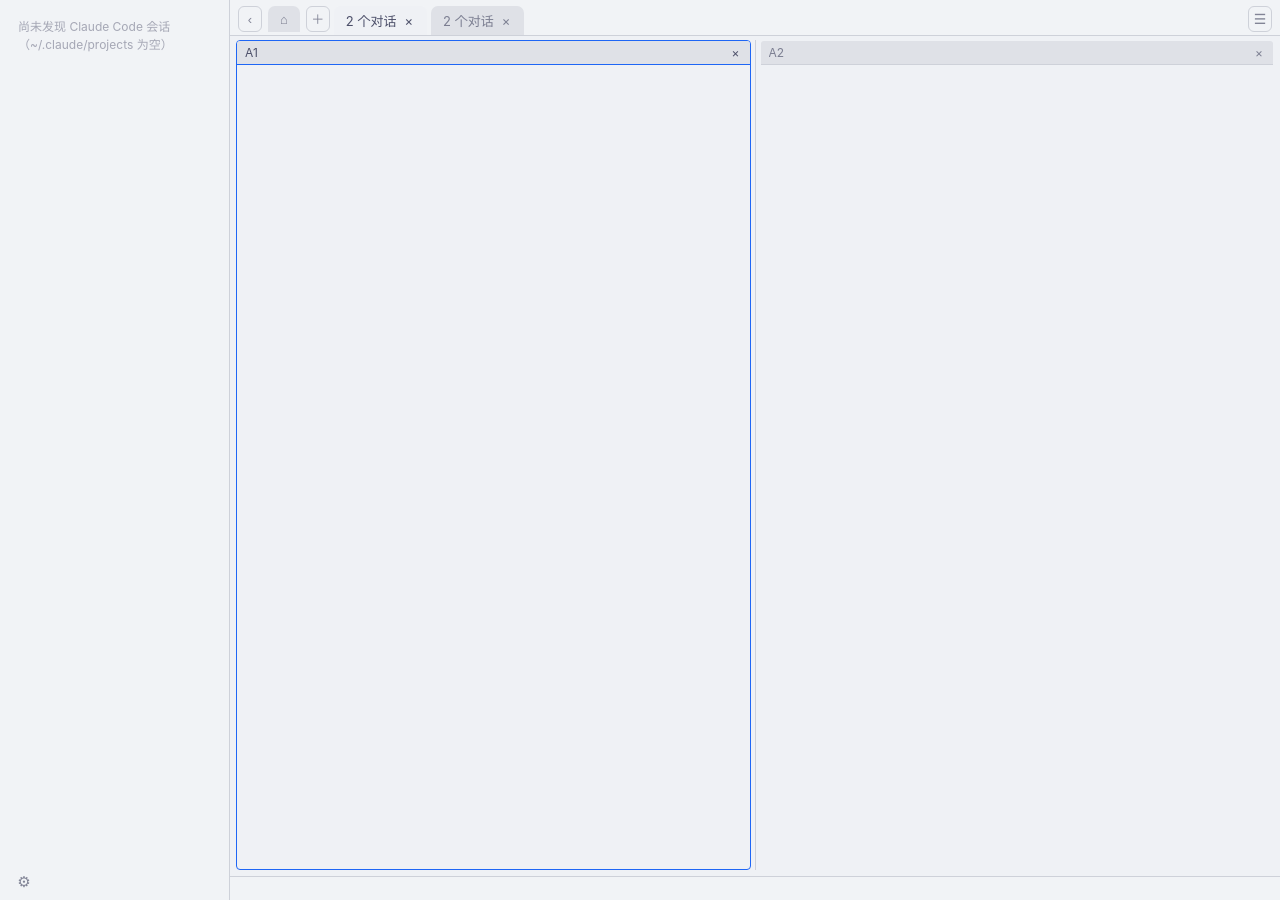
Test: TabBar — 拖已打开的标签进窗格区（设计文档 §5-B 场景 A） › 移入后总窗格数超过 3：拒绝，显示轻提示，两个标签都不受影响
The width and height of the screenshot is (1280, 900).
Press the mouse on the 2nd text "2 个对话": (478, 20) left=431, top=6, right=524, bottom=35
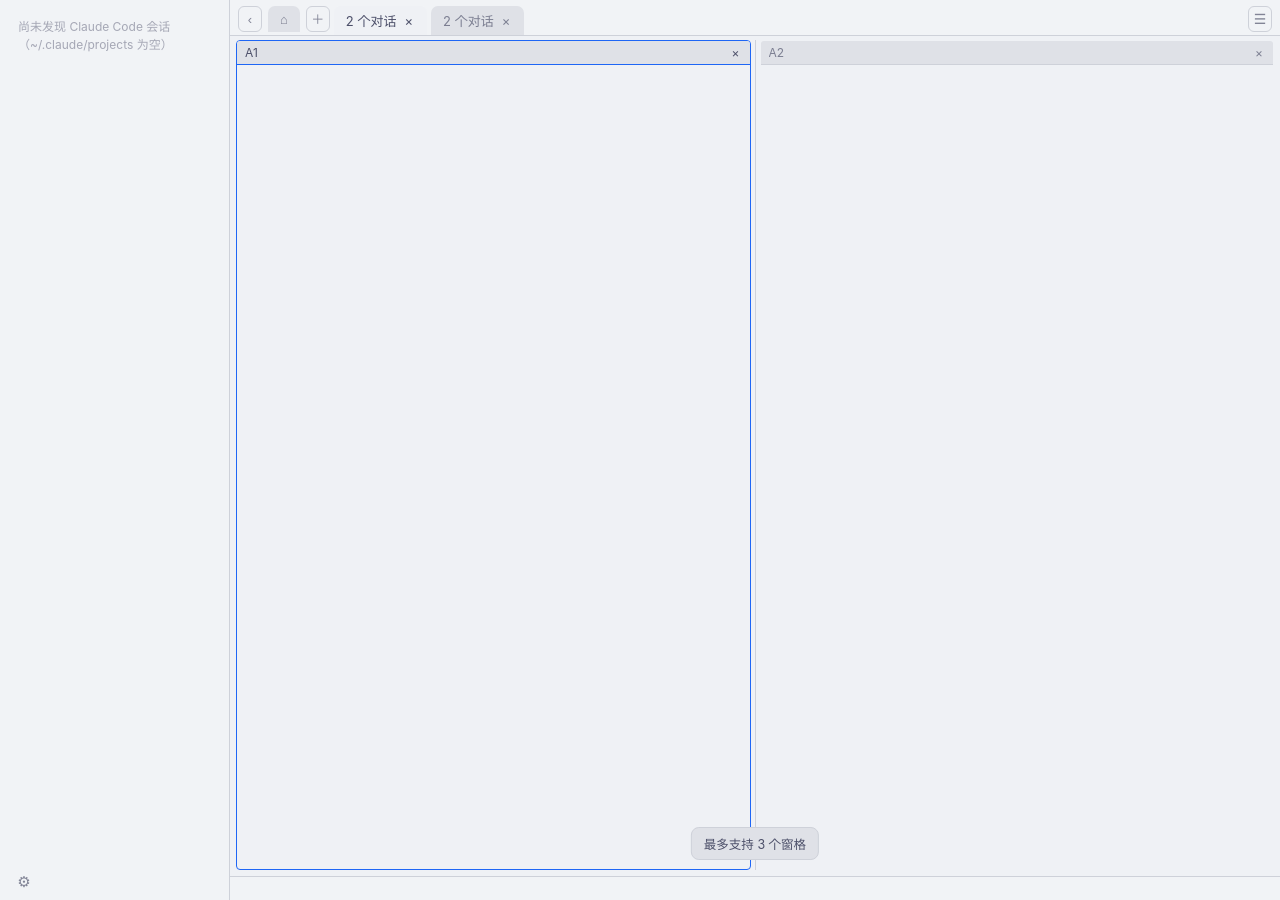
Expected: the text "最多支持 3 个窗格" is shown, left=691, top=827, right=819, bottom=860
